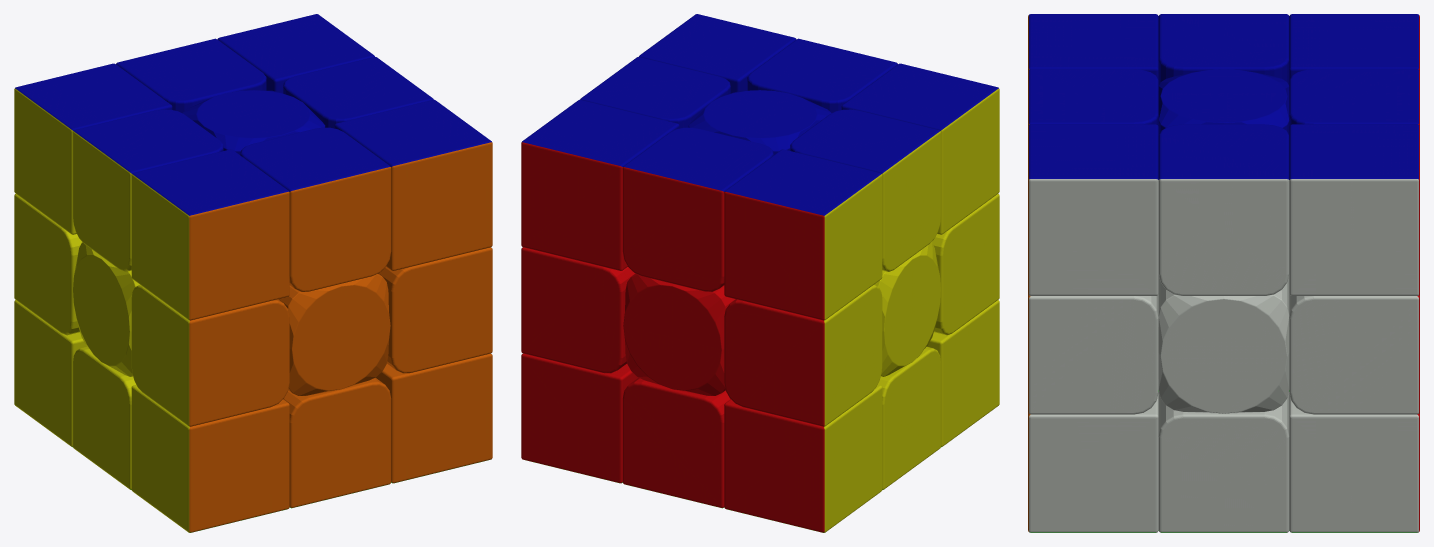
The model's file is magic-cube.glb.
3 views of the same model, side by side, from view 1: azimuth 30°, elevation 25°; view 2: azimuth 150°, elevation 25°; view 3: azimuth 270°, elevation 25° (orthographic). The views are drawn at different scales.
Parts seen in each view (by area): view 1: center.018; view 2: center.018; view 3: center.018.
Part boxes in pixels (<box>): center.018: <box>14,14,492,532</box>; center.018: <box>521,14,999,532</box>; center.018: <box>1028,14,1419,532</box>.
Size of the model in its own units: 0.0691 by 0.0691 by 0.0691.
1 material, 1 textured.
